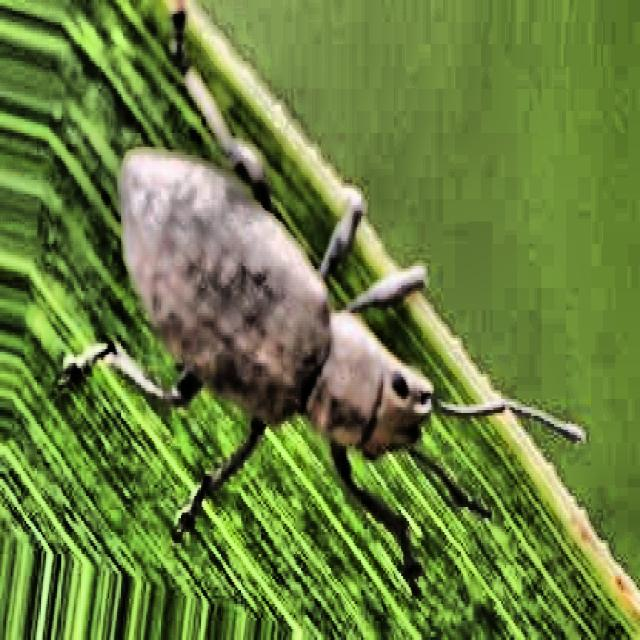Stink bug: (62, 110, 494, 562)
